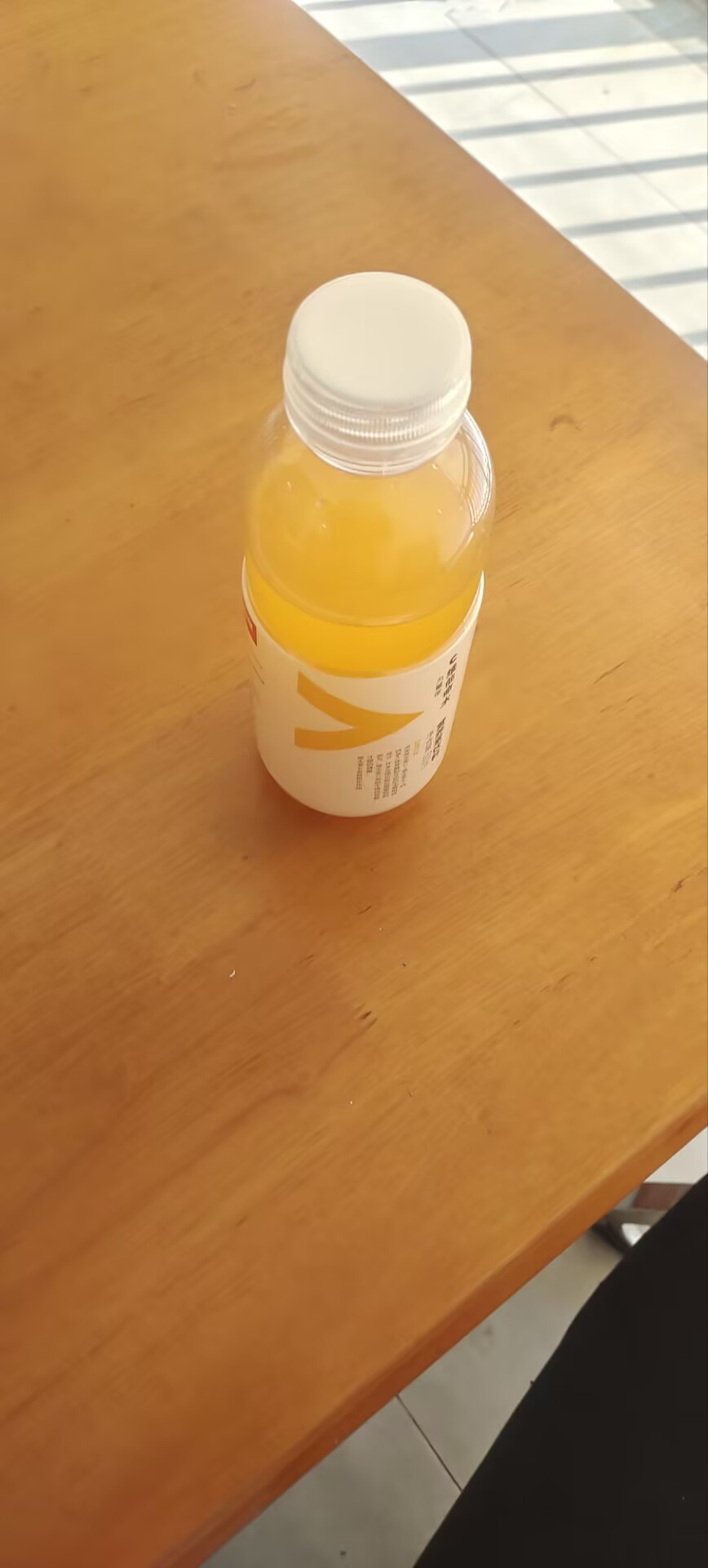redbull: (208, 265, 517, 868)
